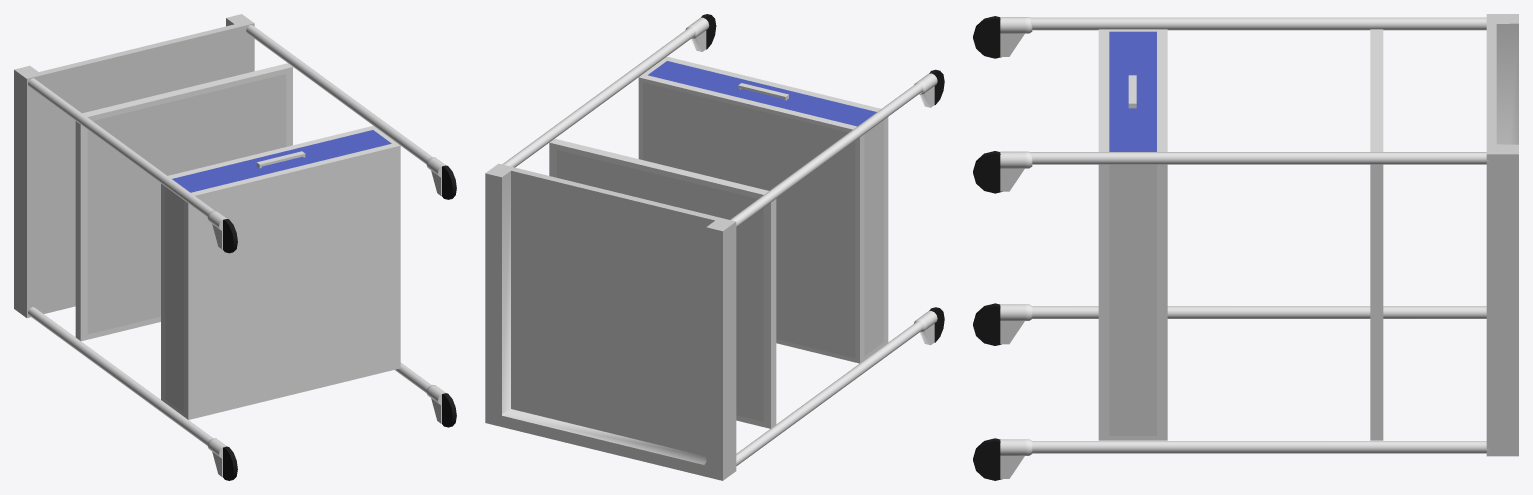
The picture shows the model from 3 angles, left to right: view 1: azimuth 30°, elevation 25°; view 2: azimuth 150°, elevation 25°; view 3: azimuth 270°, elevation 25°; orthographic projection. The views are drawn at different scales.
Parts seen in each view (by area): view 1: Circle; view 2: Circle; view 3: Circle.
Part boxes in pixels (x1,y1,x2,y2): Circle: (14,14,456,480); Circle: (485,14,944,480); Circle: (973,14,1518,480).
Size of the model in its own units: 68.49 by 73.66 by 111.
